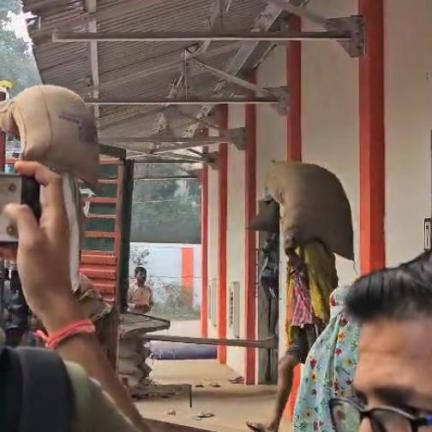Zone-Counting: (247, 162, 353, 431), (0, 85, 99, 291)
